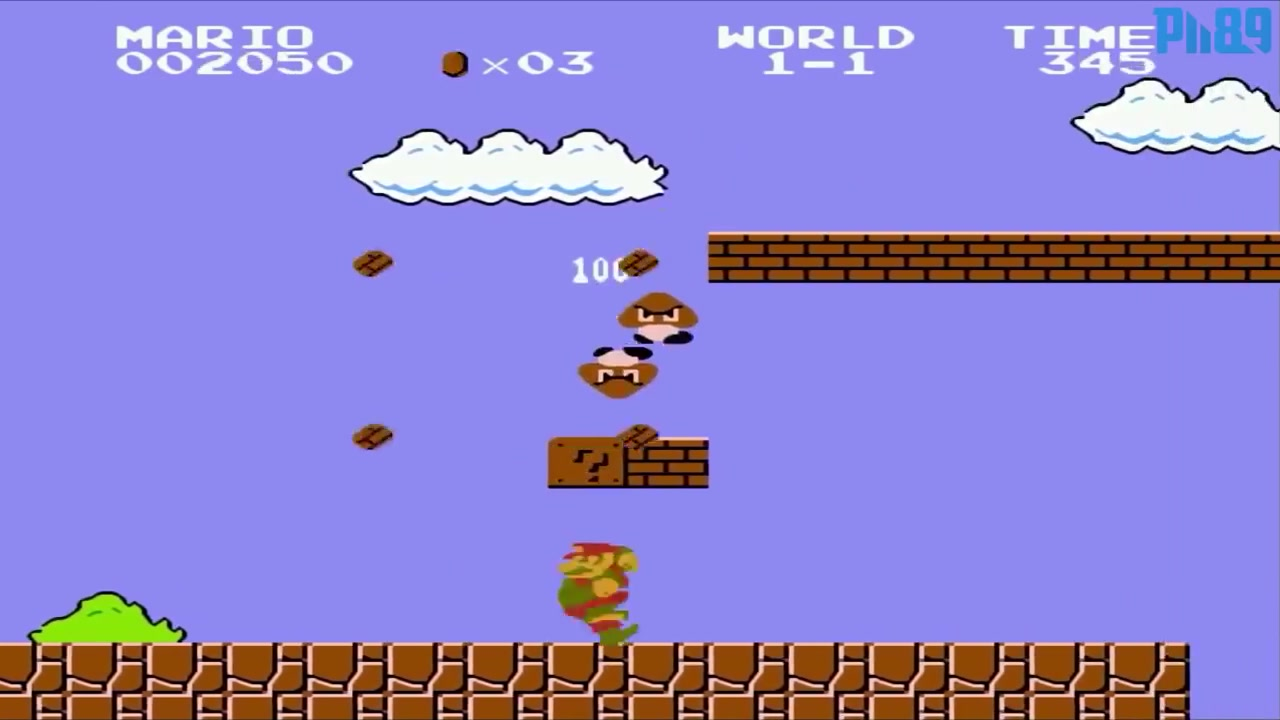mario: (544, 532, 649, 647)
